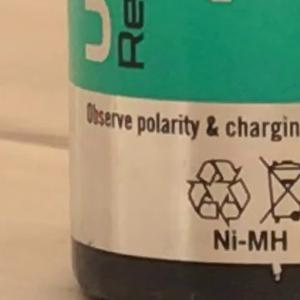NI-MH: (204, 220, 297, 261)
